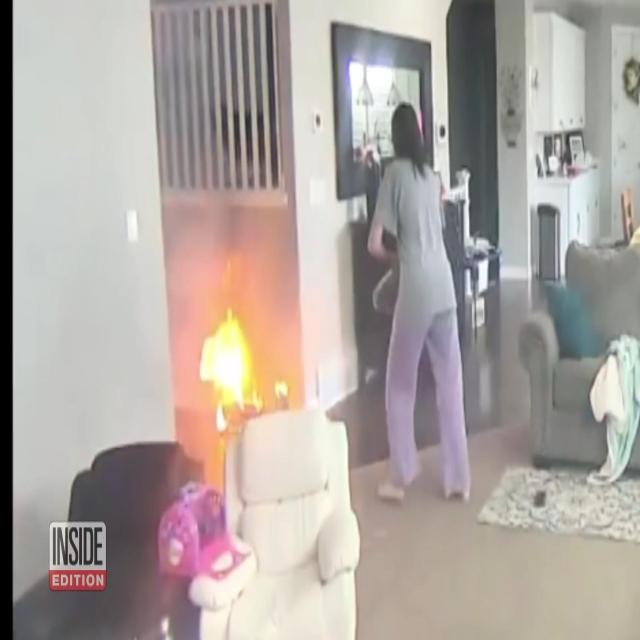fire: (199, 308, 262, 431), (275, 381, 288, 398)
